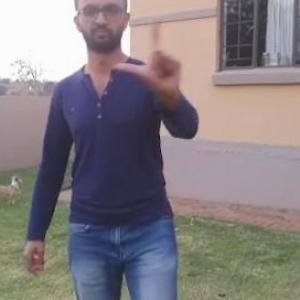land_hand: (112, 16, 184, 100)
